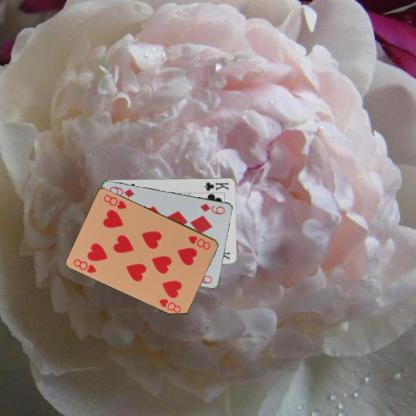8h: (71, 256, 98, 274), (186, 233, 212, 251)
9d: (198, 200, 226, 216)
Kc: (203, 179, 230, 192)
